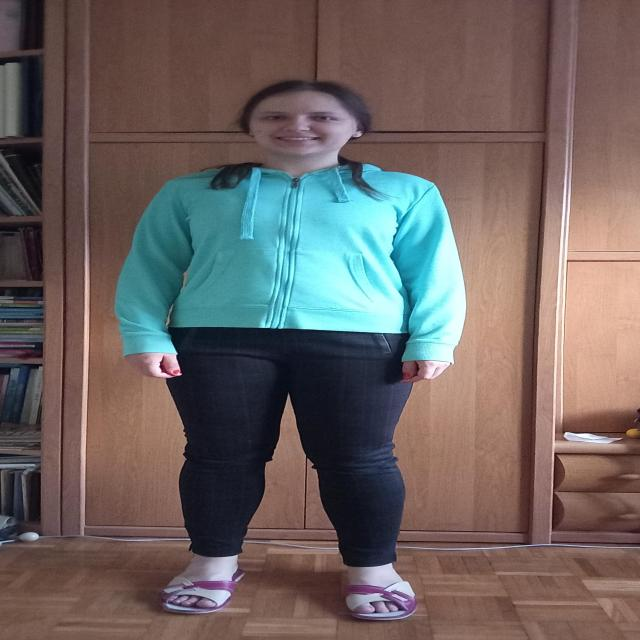pants: (162, 327, 423, 567)
sweater: (114, 163, 467, 363)
